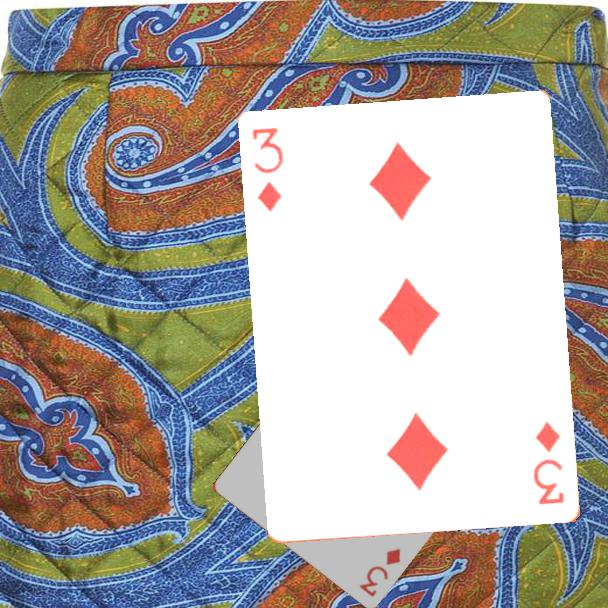d03: (249, 125, 287, 215), (530, 419, 568, 508), (356, 544, 404, 600)
